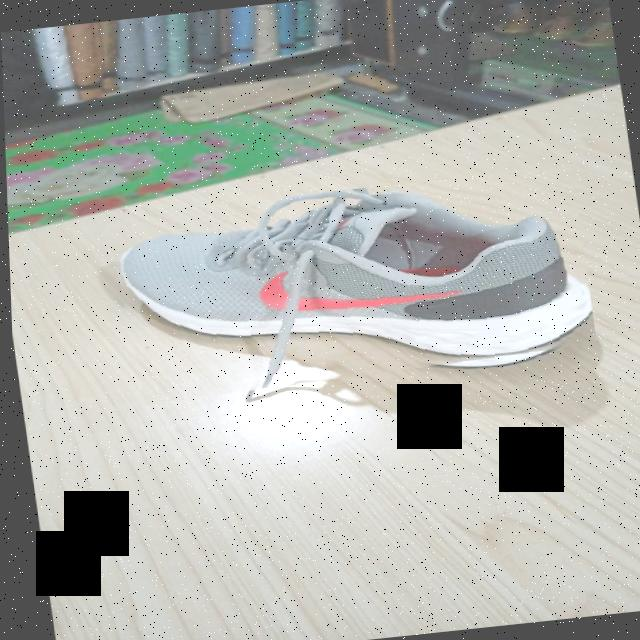shoe: (101, 165, 597, 406)
